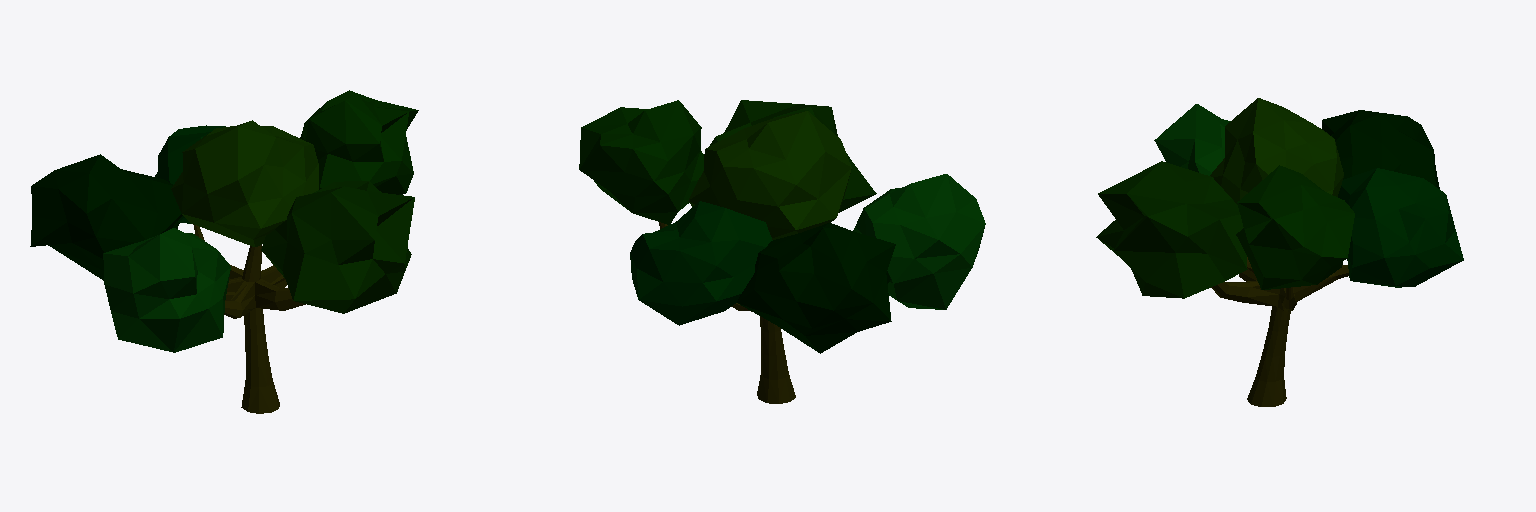
The model's file is tree2.obj.
The picture shows the model from 3 angles: view 1: azimuth 30°, elevation 25°; view 2: azimuth 150°, elevation 25°; view 3: azimuth 270°, elevation 25°; orthographic projection.
Parts seen in each view (by area): view 1: Icosphere.004, Icosphere, Icosphere.002, Icosphere.001, Icosphere.003, Cylinder, Icosphere.005; view 2: Icosphere.001, Icosphere, Icosphere.005, Icosphere.002, Icosphere.003, Icosphere.004, Cylinder; view 3: Icosphere.004, Icosphere.005, Icosphere.003, Icosphere, Icosphere.001, Cylinder, Icosphere.002.
Boxes of the visible parts, box(x1,y1,x2,y2) form: Icosphere.004: box(261, 181, 414, 313); Icosphere: box(171, 120, 318, 246); Icosphere.002: box(103, 228, 230, 352); Icosphere.001: box(30, 154, 182, 280); Icosphere.003: box(300, 90, 418, 194); Cylinder: box(193, 224, 305, 413); Icosphere.005: box(155, 125, 225, 223); Icosphere.001: box(737, 223, 895, 353); Icosphere: box(688, 111, 851, 239); Icosphere.005: box(630, 201, 772, 325); Icosphere.002: box(853, 174, 985, 309); Icosphere.003: box(579, 100, 703, 224); Icosphere.004: box(710, 100, 876, 212); Cylinder: box(659, 222, 795, 403); Icosphere.004: box(1096, 161, 1247, 298); Icosphere.005: box(1338, 168, 1463, 287); Icosphere.003: box(1236, 165, 1354, 289); Icosphere: box(1210, 98, 1343, 204); Icosphere.001: box(1322, 110, 1439, 188); Cylinder: box(1211, 257, 1348, 406); Icosphere.002: box(1154, 104, 1230, 175).
Size of the model in its own units: 40.59 by 32 by 36.99.